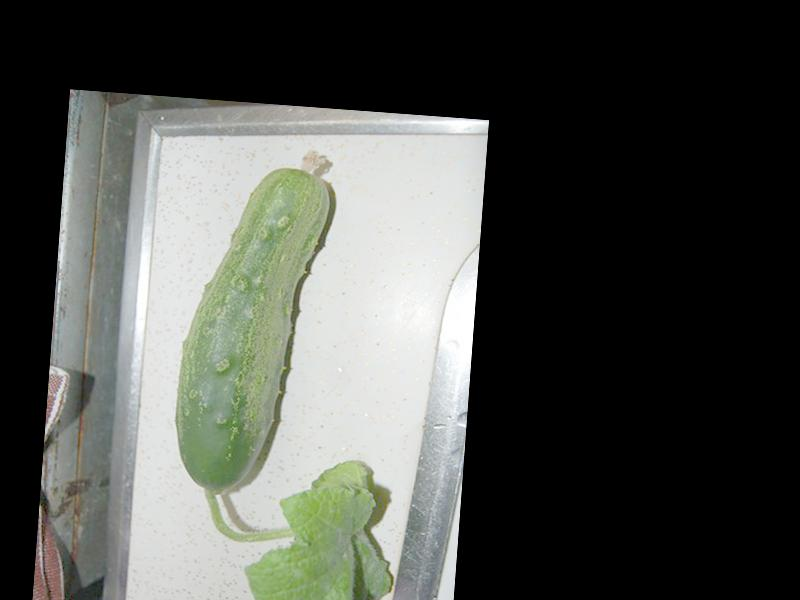Cucumber: (168, 141, 336, 502)
